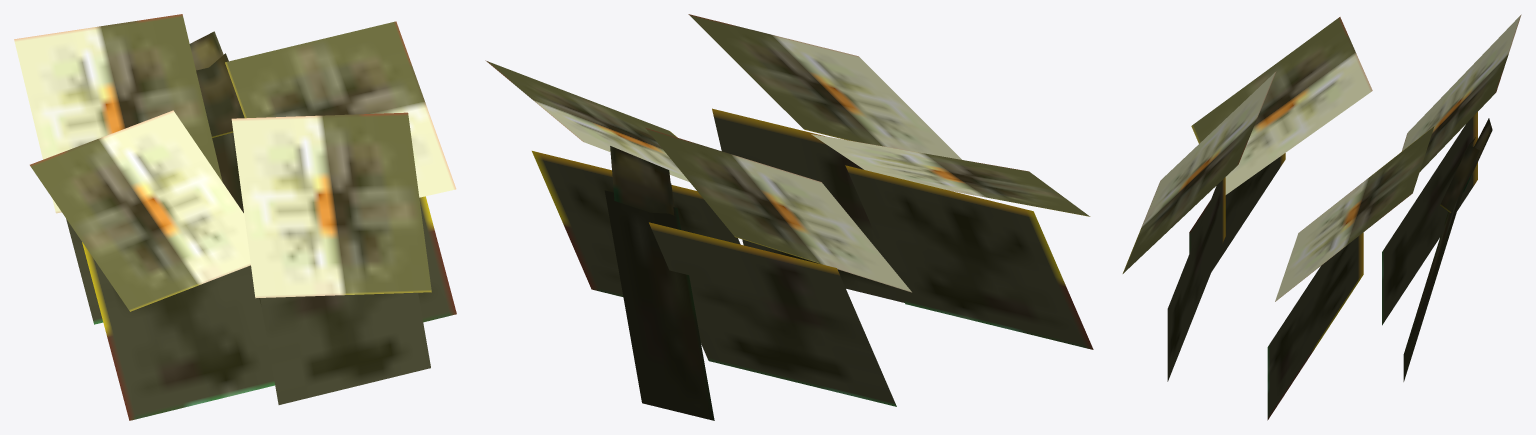
Rendered from flw_cosmos_x.dae.
The picture shows the model from 3 angles, left to right: view 1: azimuth 30°, elevation 25°; view 2: azimuth 150°, elevation 25°; view 3: azimuth 270°, elevation 25°; orthographic projection. The views are drawn at different scales.
Visible parts, largest first — view 1: flw_cosmos_x; view 2: flw_cosmos_x; view 3: flw_cosmos_x.
Boxes of the visible parts, x1,y1,x2,y2 form: flw_cosmos_x: [14, 14, 456, 420]; flw_cosmos_x: [485, 14, 1093, 420]; flw_cosmos_x: [1122, 14, 1521, 420].
Size of the model in its own units: 32.21 by 20.79 by 27.9.
1 material, 1 textured.
